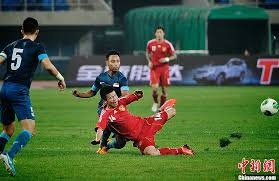falling: (93, 85, 193, 158)
